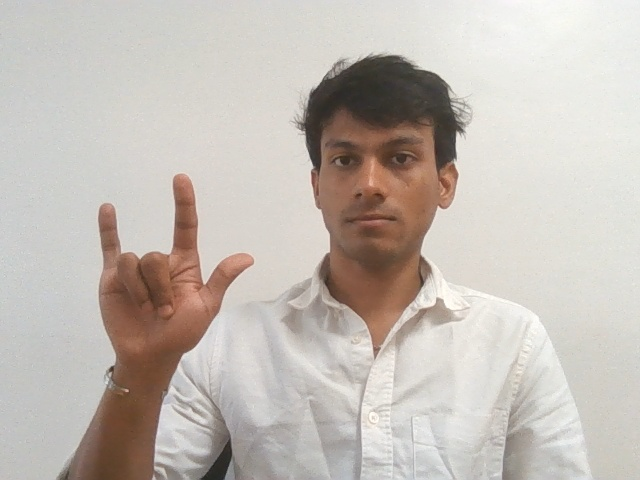ILoveYou: (80, 169, 255, 377)
